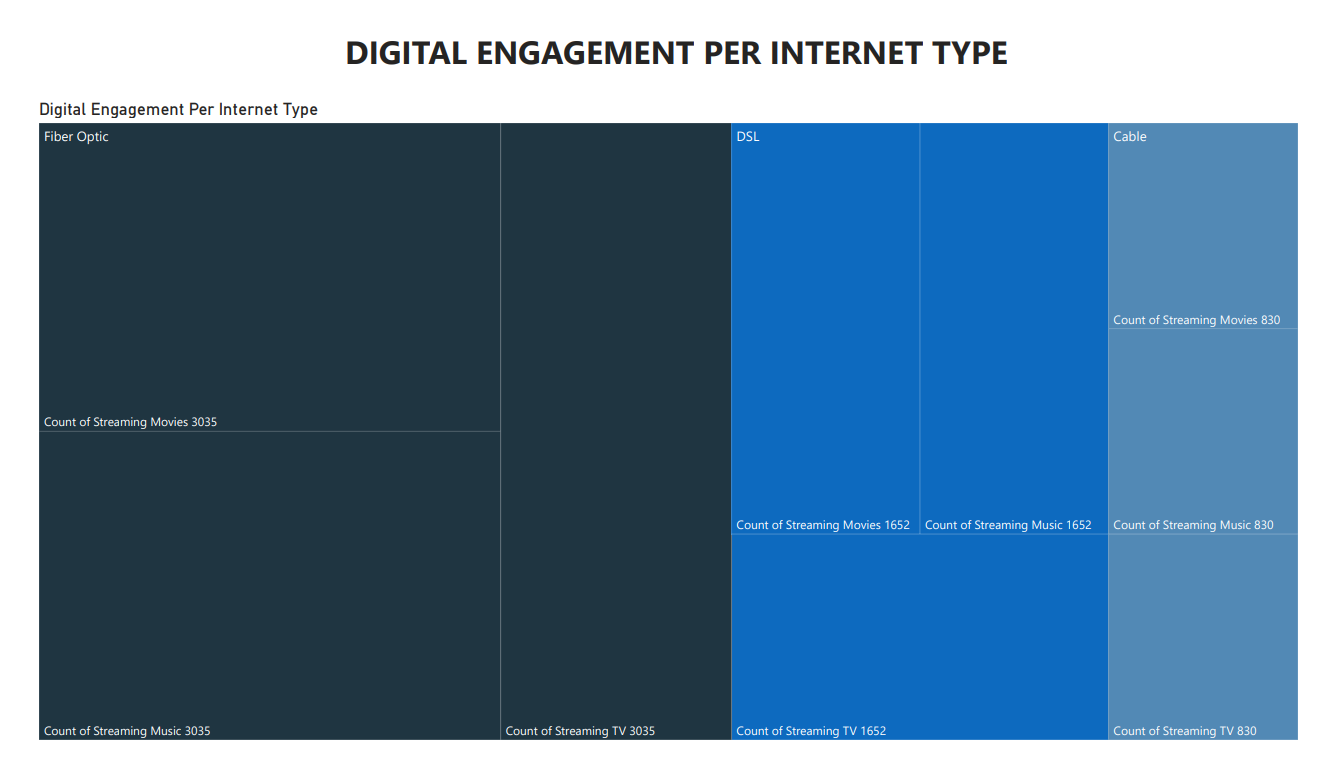

This screenshot's page, from the dashboard's own definition file:
{"tool":"powerbi","page":{"name":"Digital Engagement","canvas":[1280,720],"ordinal":3},"visuals":[{"type":"treemap","title":"Digital Engagement Per Internet Type","fields":{"Group":["Subscription.Internet Type"],"Values":["CountNonNull(Digital Engagement.Streaming Movies)","CountNonNull(Digital Engagement.Streaming Music)","CountNonNull(Digital Engagement.Streaming TV)"]},"box":[10.7,74.8,1269,646.1],"z":0},{"type":"textbox","box":[122.8,0,1060.8,60.5],"z":1000}]}

Visuals, with their boxes in screenshot pixels (x1, y1, x2, y2), scaled from the page's 1280x720 canvas onto the 1327x768 screenshot:
"Digital Engagement Per Internet Type" treemap: bbox(11, 80, 1326, 767)
textbox: bbox(127, 0, 1227, 65)
